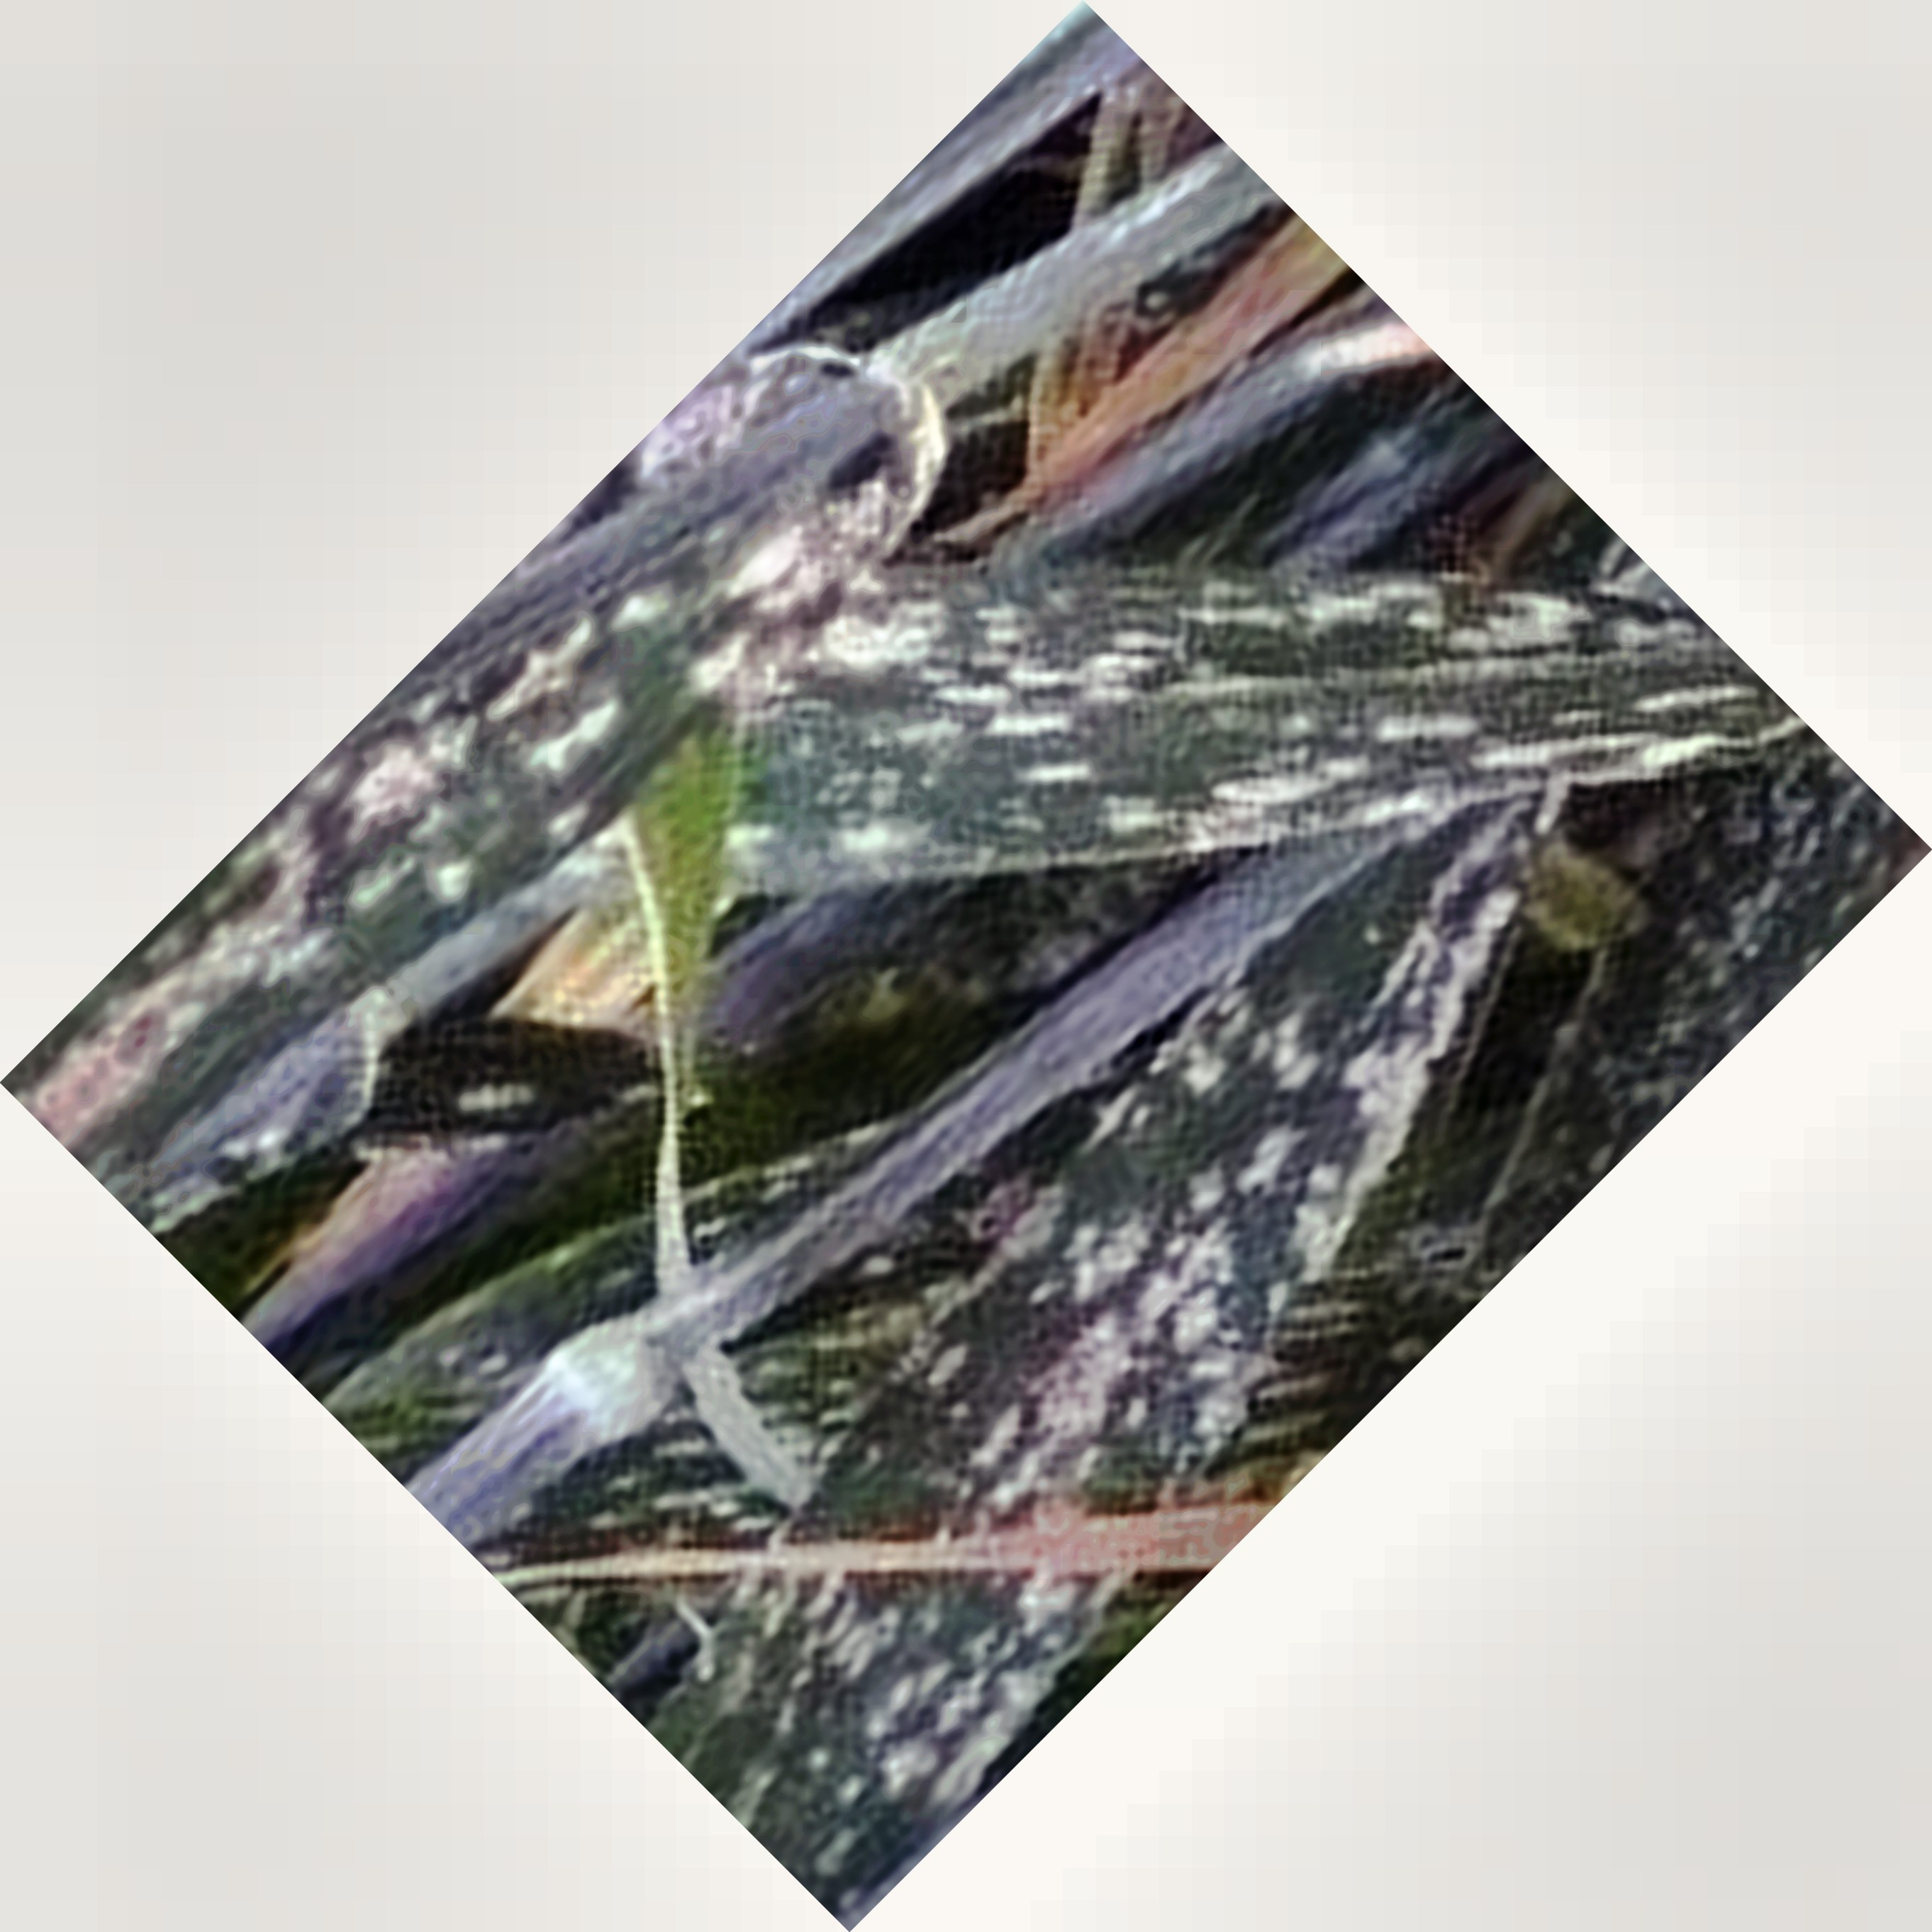Powdery Mildew: (803, 1024, 1444, 1767)
